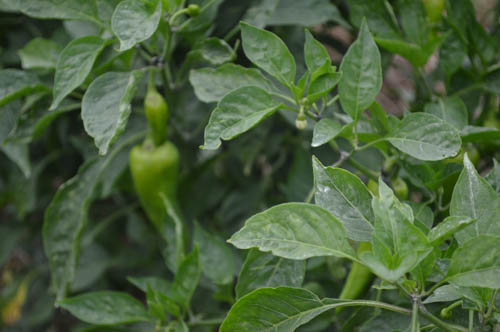ChiliPepper: (336, 208, 398, 324), (130, 144, 185, 231), (143, 93, 171, 142)
